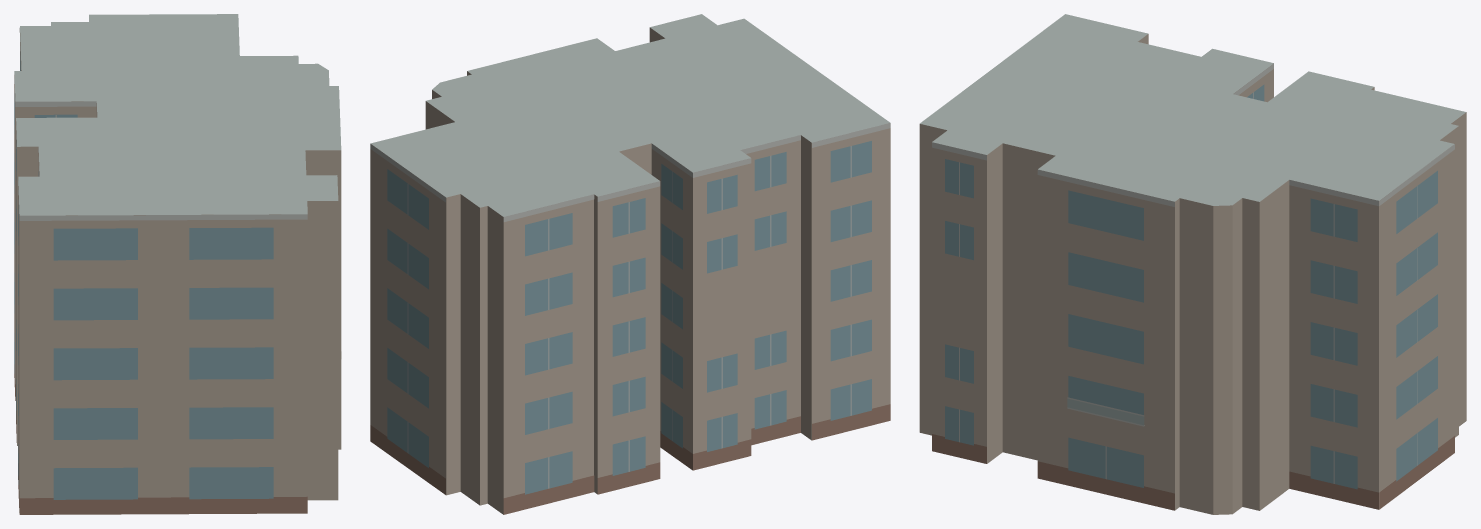
File: survey-upis-32607609.glb
3 renders of one model, left to right at view 1: azimuth 30°, elevation 25°; view 2: azimuth 150°, elevation 25°; view 3: azimuth 270°, elevation 25°, orthographic. The views are drawn at different scales.
Visible parts, largest first — view 1: survey-upis-32607609.tmp; view 2: survey-upis-32607609.tmp; view 3: survey-upis-32607609.tmp.
Boxes of the visible parts, bbox=[...] form: survey-upis-32607609.tmp: bbox=[14, 14, 341, 514]; survey-upis-32607609.tmp: bbox=[370, 14, 890, 514]; survey-upis-32607609.tmp: bbox=[919, 14, 1466, 514].
Bounding box in the file's own units: 18.39 × 13.8 × 22.15.
